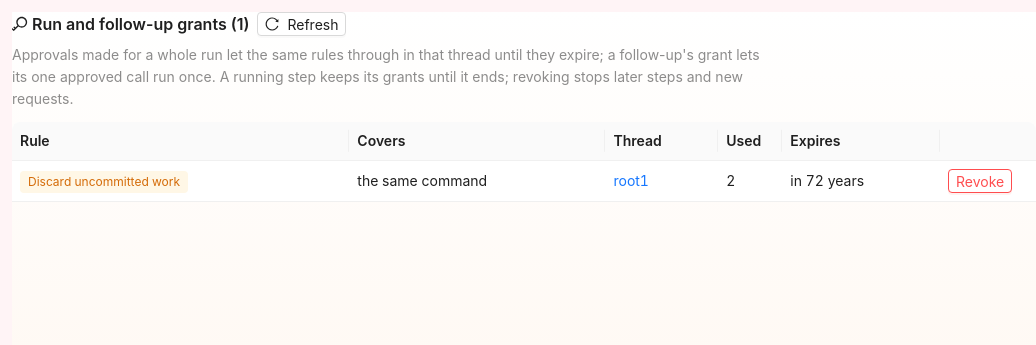
Scenario: RunGrants › revokes after a confirmation and reloads
Step 1. Click the button "Revoke" → {"x": 980, "y": 181}, box top-left (948, 169), bottom-right (1012, 193)
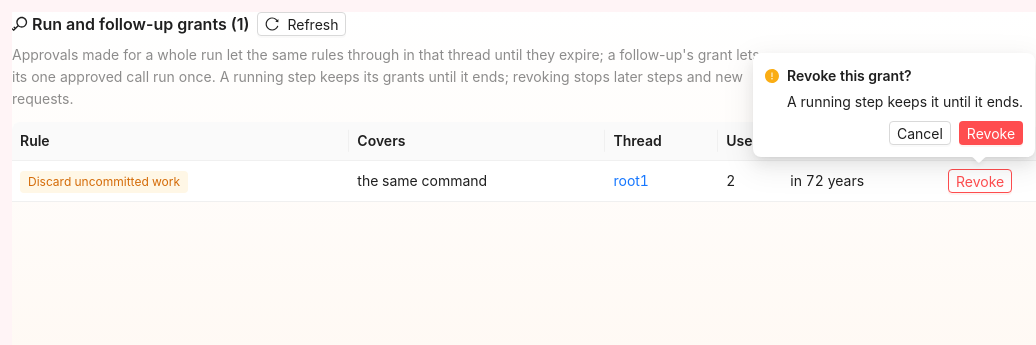
Step 2. Click the button "Revoke" below "A running step keeps it until it ends." → {"x": 991, "y": 133}, box top-left (959, 121), bottom-right (1023, 145)
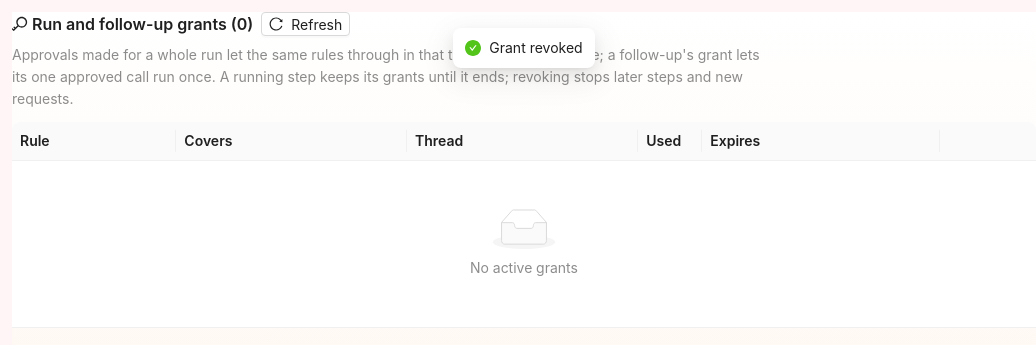
expect the text "Run and follow-up grants (0)" is shown: met, box top-left (12, 12), bottom-right (253, 36)
